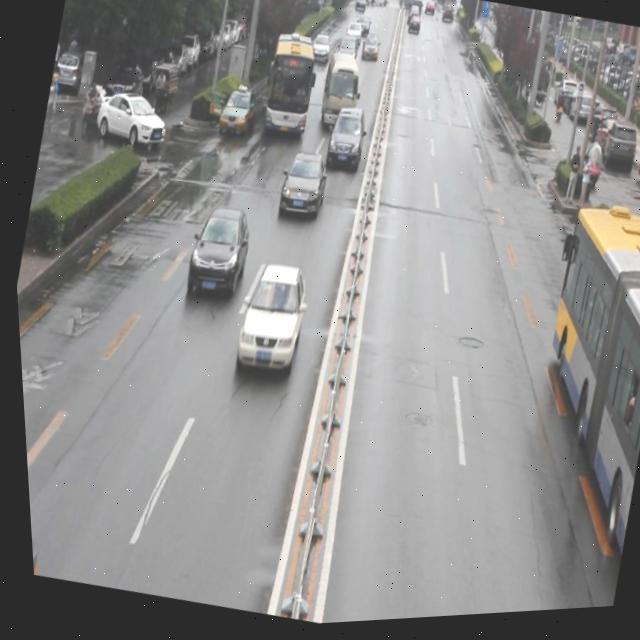car: (226, 260, 309, 385), (177, 201, 254, 310), (89, 86, 172, 161), (271, 151, 328, 225), (319, 108, 367, 175), (209, 95, 257, 155)
truck: (311, 58, 368, 142)
van: (487, 209, 640, 580), (255, 31, 323, 144)
